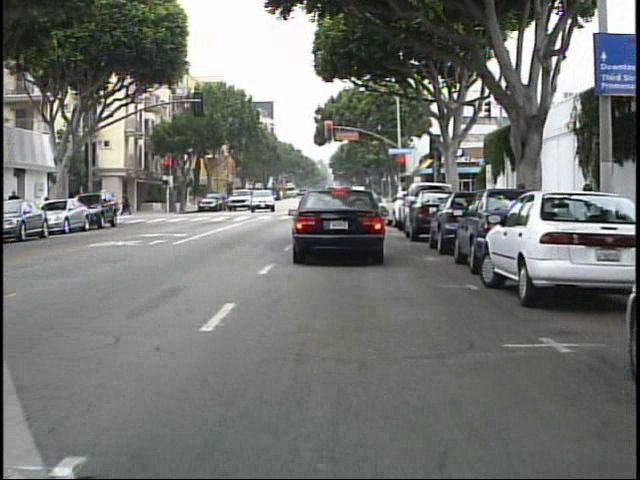person: (9, 187, 26, 232), (120, 189, 135, 217)
